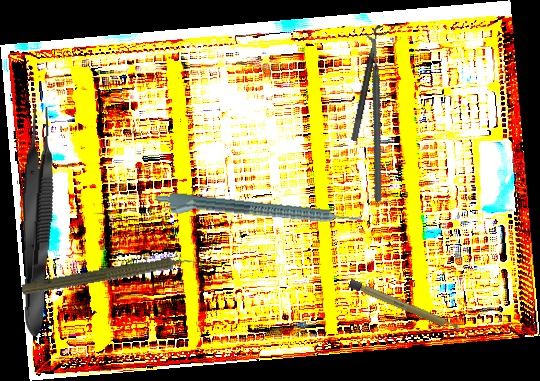Chopper: (309, 32, 438, 203)
Fixation Ring: (349, 24, 393, 144)
Handpiece: (20, 249, 207, 302), (153, 190, 363, 236)
Scalpel Handle: (348, 278, 462, 335)
Tissue Forceps: (16, 105, 58, 338)
